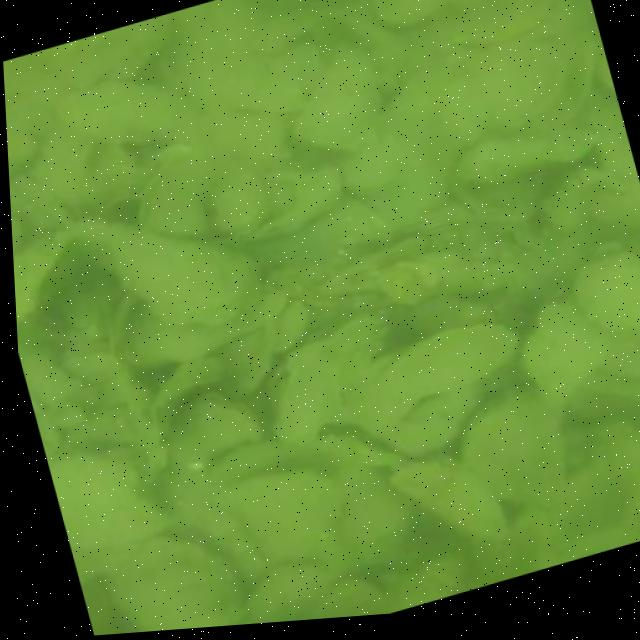Oyster-Closed: (384, 264, 528, 336), (166, 386, 269, 474)
Oyster-Indeterminate: (344, 324, 517, 444), (62, 218, 264, 318), (109, 533, 248, 632), (129, 285, 296, 362), (460, 391, 571, 503), (49, 461, 173, 553), (525, 300, 620, 403), (388, 458, 503, 543), (539, 462, 640, 554), (226, 467, 342, 546), (448, 126, 600, 185), (477, 37, 568, 134), (59, 80, 197, 141), (294, 55, 380, 147), (48, 15, 168, 80), (313, 234, 430, 296), (448, 166, 555, 232), (141, 146, 217, 238), (339, 483, 424, 559), (257, 164, 339, 236), (390, 396, 474, 457), (574, 256, 640, 333), (248, 560, 327, 623), (393, 551, 464, 612), (112, 294, 169, 368), (209, 161, 261, 238), (222, 329, 271, 393), (337, 147, 399, 196), (317, 580, 389, 619), (374, 0, 454, 26), (7, 128, 40, 171)
Oyster-Open: (262, 344, 342, 448), (297, 416, 413, 474), (13, 237, 81, 324)
